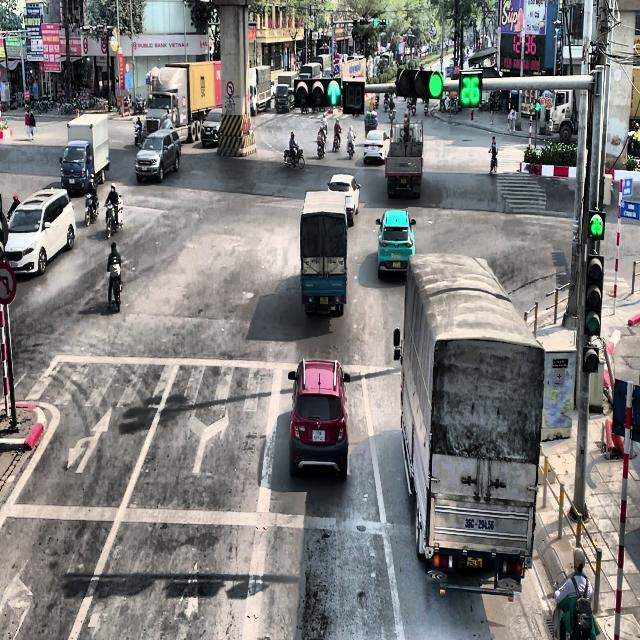lisence_plate: (464, 515, 495, 532), (465, 554, 483, 570), (311, 427, 326, 443), (318, 295, 330, 306), (392, 260, 401, 269), (401, 176, 407, 185), (370, 146, 377, 151)
